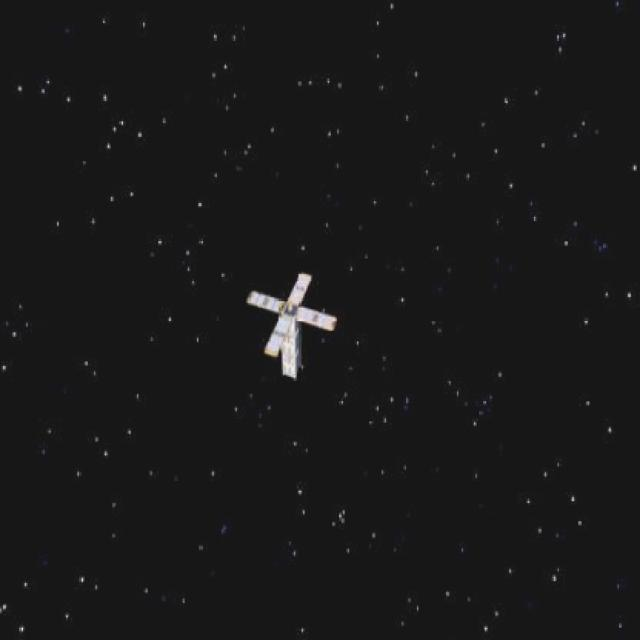satellite: (230, 256, 344, 386)
